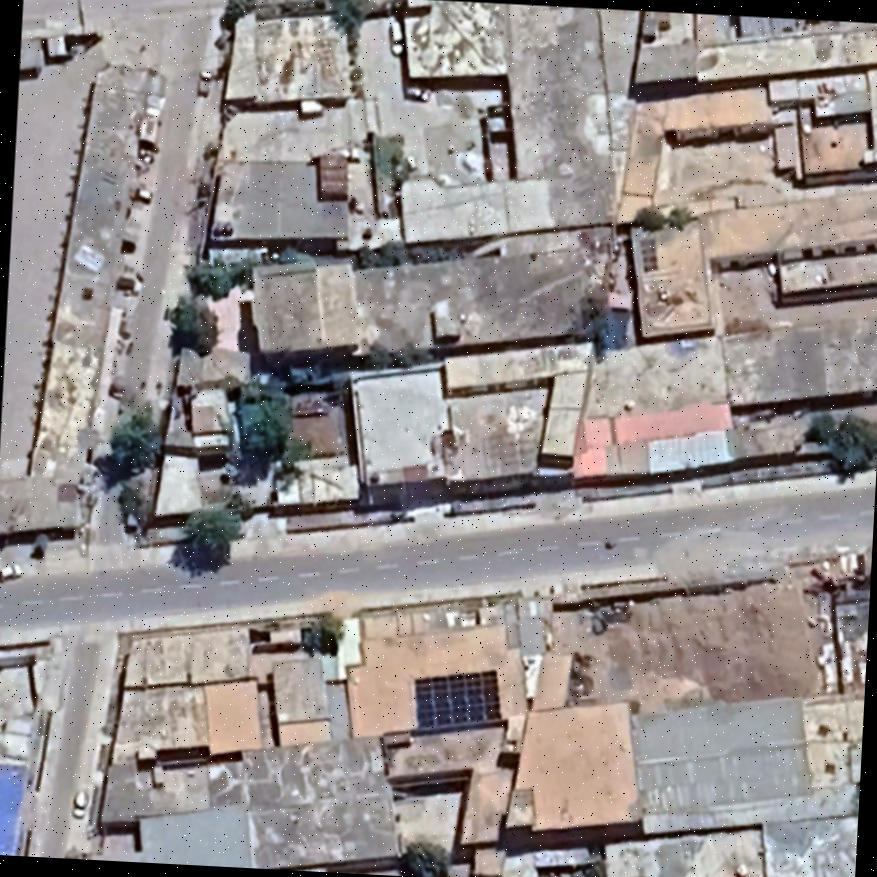Solarpanel: (405, 663, 503, 742)
